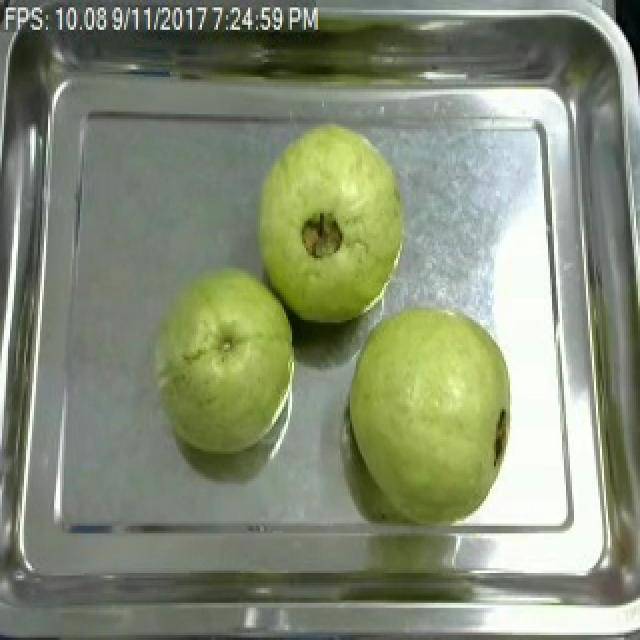Fruit: (340, 298, 522, 528), (246, 114, 416, 330), (152, 258, 304, 461)
